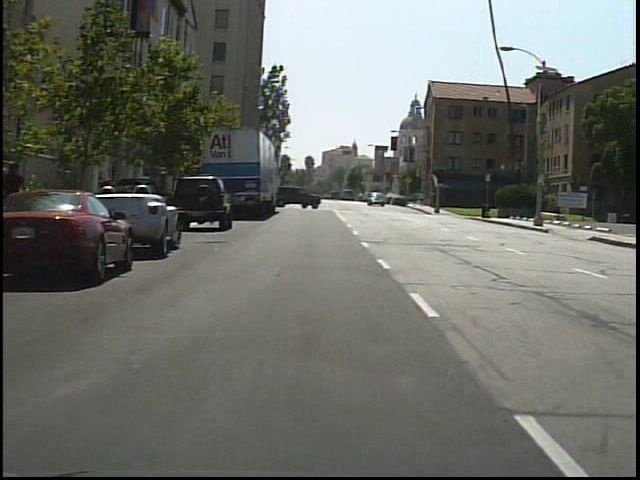person: (4, 158, 33, 243), (0, 164, 30, 228)
